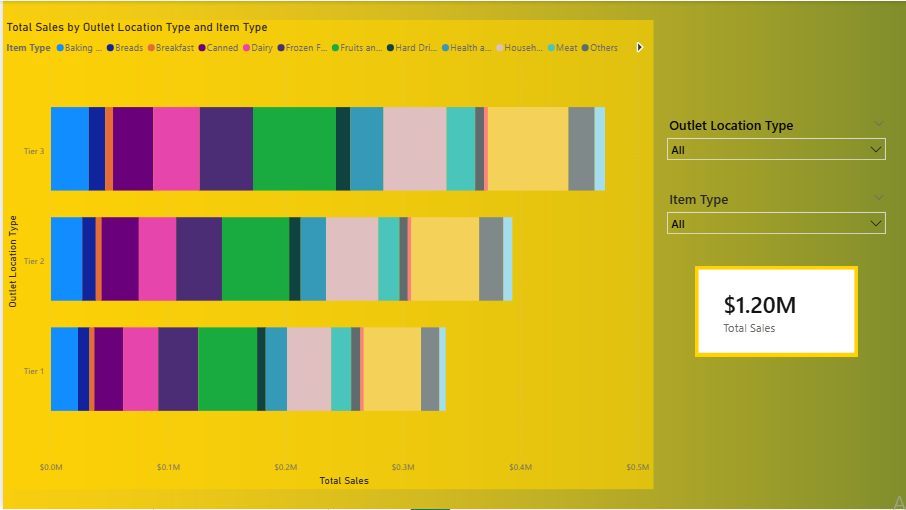

What the dashboard file says about the page in this screenshot:
{"tool":"powerbi","page":{"name":"Sales by Location & Item","canvas":[1280,720],"ordinal":1},"visuals":[{"type":"barChart","fields":{"Y":["_Measures.Total Sales"],"Category":["BlinkIT Grocery Data.Outlet Location Type"],"Series":["BlinkIT Grocery Data.Item Type"]},"box":[0,27.4,921.6,665.3],"z":0},{"type":"slicer","fields":{"Values":["BlinkIT Grocery Data.Outlet Location Type"]},"box":[931.2,157.3,330.2,79.4],"z":1000},{"type":"slicer","fields":{"Values":["BlinkIT Grocery Data.Item Type"]},"box":[931.2,262.2,330.2,79.4],"z":2000},{"type":"cardVisual","fields":{"Data":["_Measures.Total Sales"]},"box":[980.8,375.6,231,129],"z":3000}]}

Visuals, with their boxes in screenshot pixels (x1, y1, x2, y2), scaled from the page's 1280x720 canvas onto the 906x510 screenshot:
barChart - _Measures.Total Sales x BlinkIT Grocery Data.Outlet Location Type: pyautogui.locateOnScreen(0, 19, 652, 491)
slicer - BlinkIT Grocery Data.Outlet Location Type: pyautogui.locateOnScreen(659, 111, 893, 168)
slicer - BlinkIT Grocery Data.Item Type: pyautogui.locateOnScreen(659, 186, 893, 242)
cardVisual - _Measures.Total Sales: pyautogui.locateOnScreen(694, 266, 858, 357)
